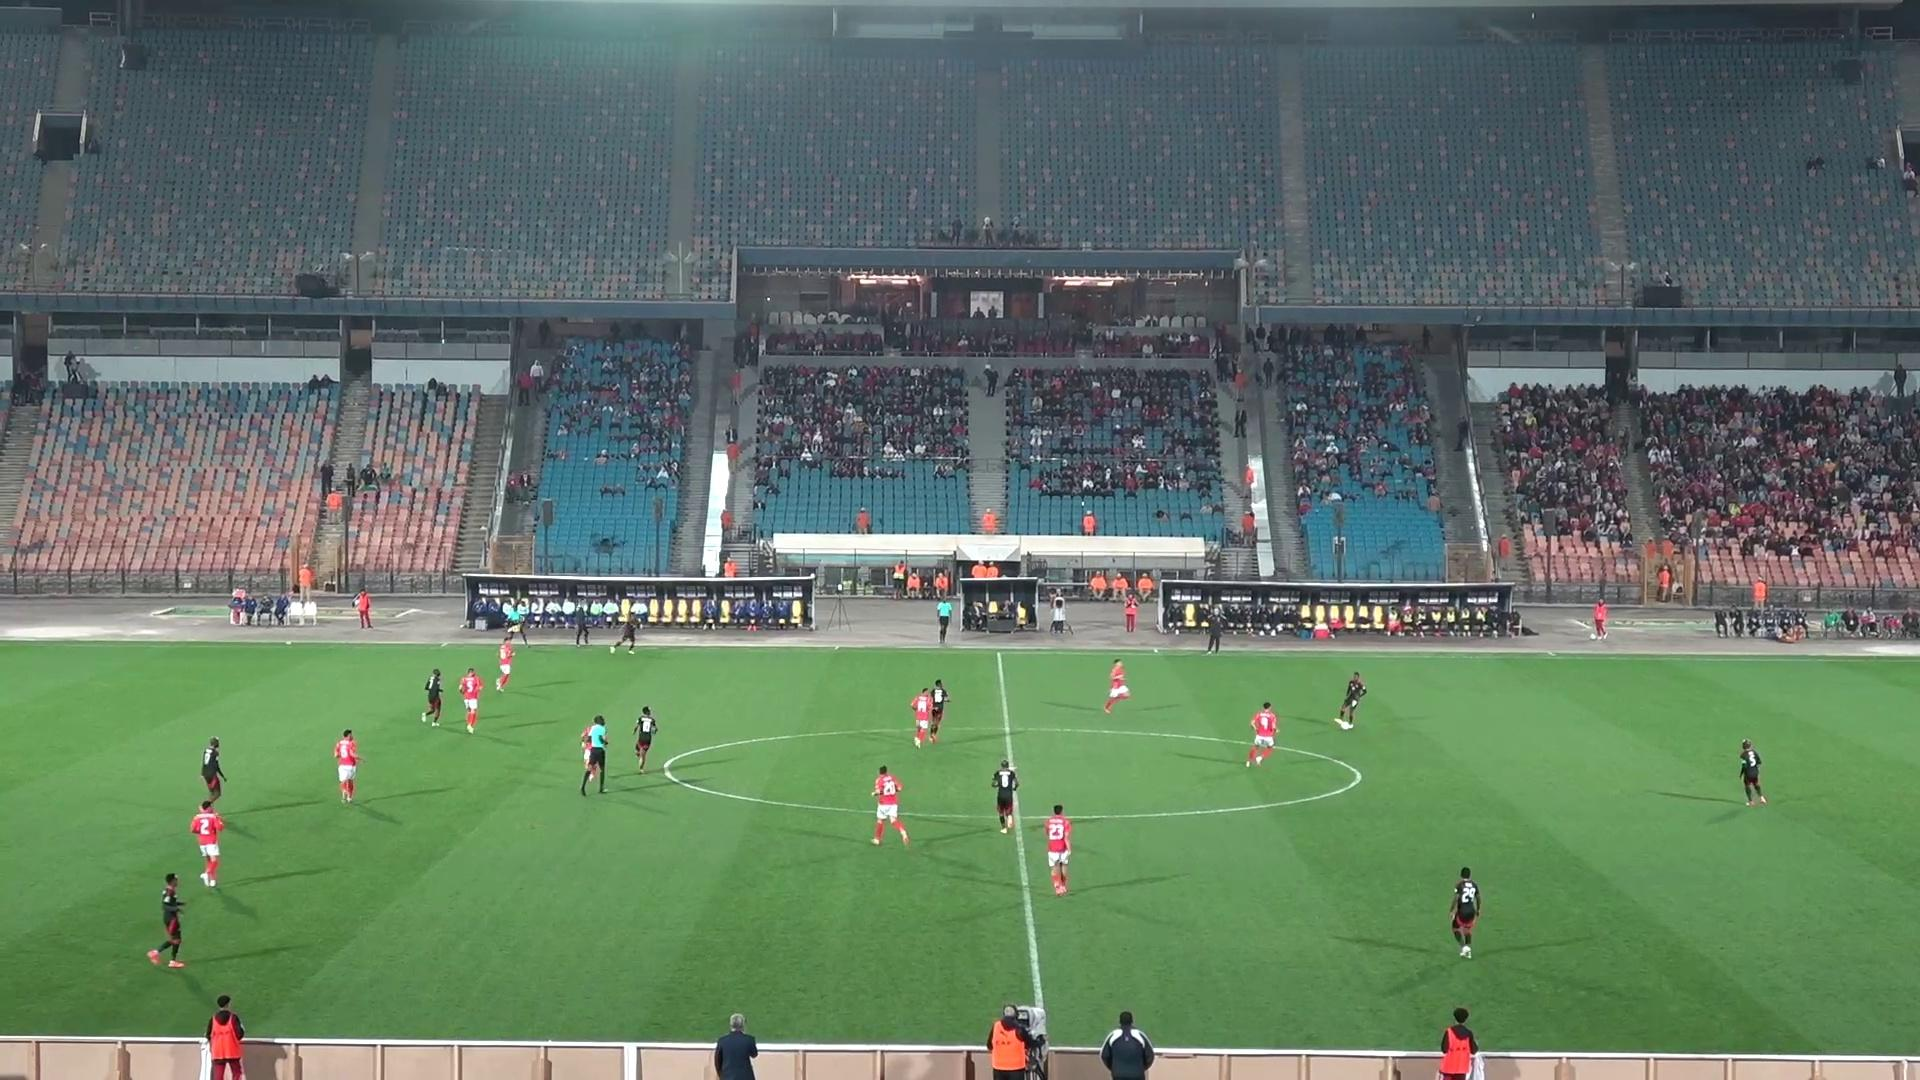Refree: (580, 715, 609, 794), (495, 588, 534, 644), (938, 595, 953, 646)
Team1: (190, 799, 224, 887), (872, 766, 910, 844), (1044, 804, 1072, 895), (911, 680, 948, 746), (495, 625, 527, 692), (332, 729, 361, 804), (1246, 702, 1279, 767), (459, 669, 484, 733), (1102, 659, 1130, 713)
Team2: (146, 873, 185, 968), (1448, 866, 1481, 959), (1335, 673, 1367, 731), (632, 705, 659, 774), (992, 758, 1017, 833), (1739, 738, 1767, 806), (609, 599, 641, 653), (200, 737, 225, 804), (422, 669, 444, 725)
